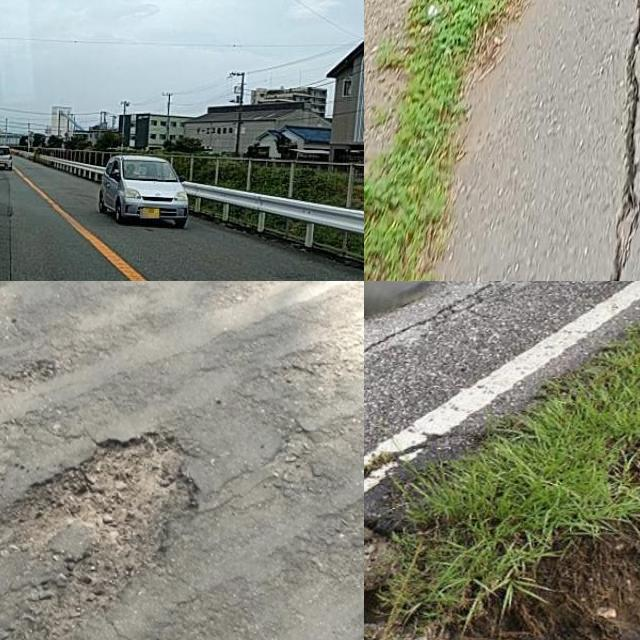Lubang: (0, 434, 204, 609)
Memanjang: (584, 0, 640, 281), (0, 192, 25, 281)
Pinggir: (364, 455, 576, 640)
